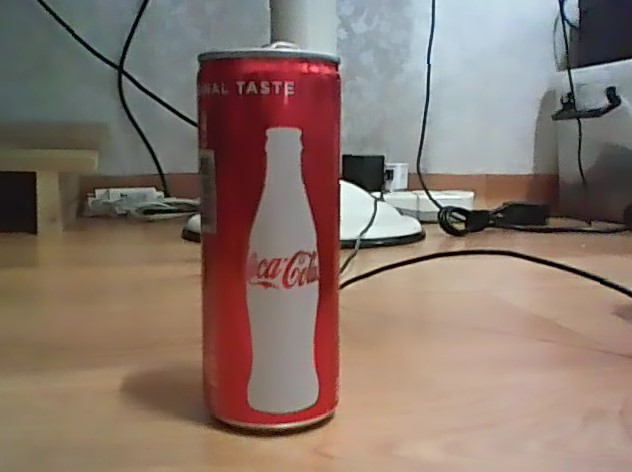Can: (193, 39, 346, 433)
